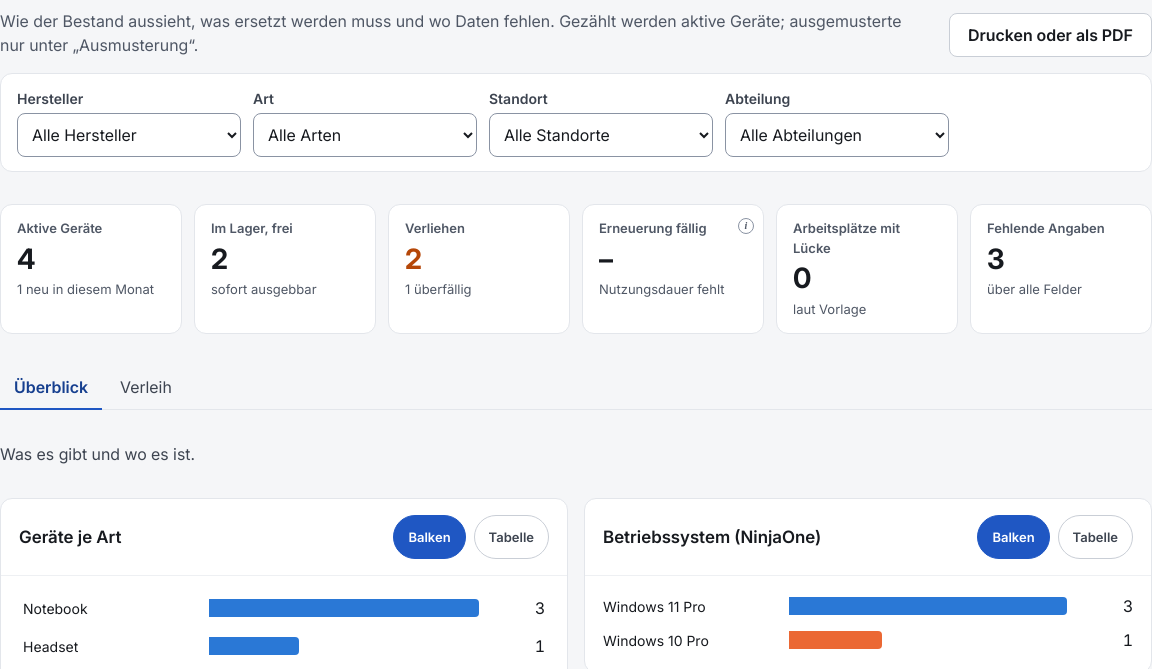
Scenario: Statistik: Seite › zeigt Kennzahlen, wechselt Bereiche und Darstellung
Check: the heading "Geräte je Art" is shown, box left=19, top=525, right=122, bottom=550
Check: the button "Aktive Geräte 4 1 neu in diesem Monat" is shown, box left=0, top=204, right=182, bottom=334
Kennzahl öffnet den Bereich
Click the button "Verliehen 2 1 überfällig" at (479, 269), box left=388, top=204, right=570, bottom=334
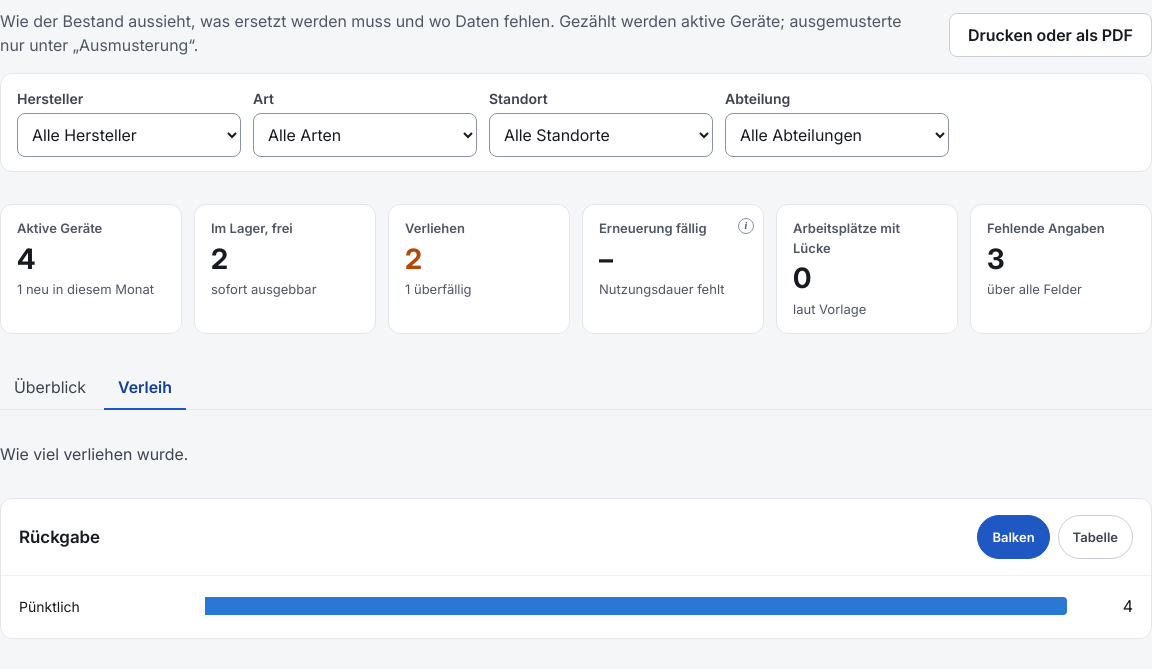
Check: the heading "Rückgabe" is shown, box left=19, top=525, right=100, bottom=550
Click the button "Überblick" at (50, 388), box left=0, top=366, right=100, bottom=410
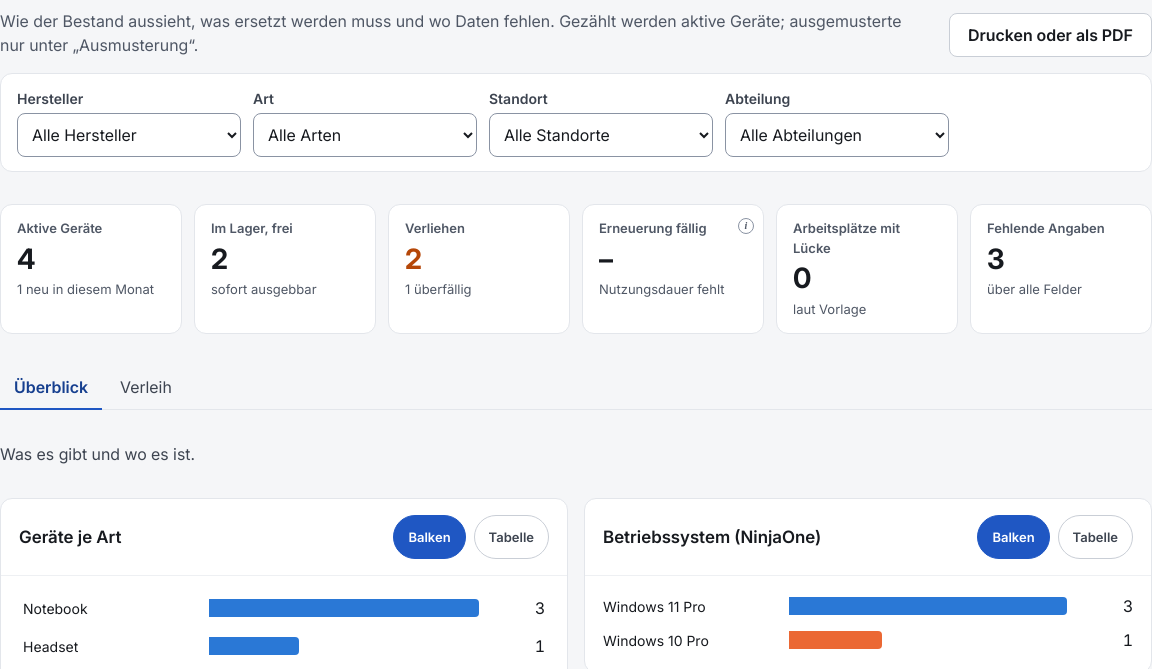
Tabelle statt Balken, mit Hinweis „beachten“
Click the button "Tabelle" in the row of "Betriebssystem (NinjaOne)" at (1095, 538), box left=1058, top=516, right=1133, bottom=560
(page scrolled)
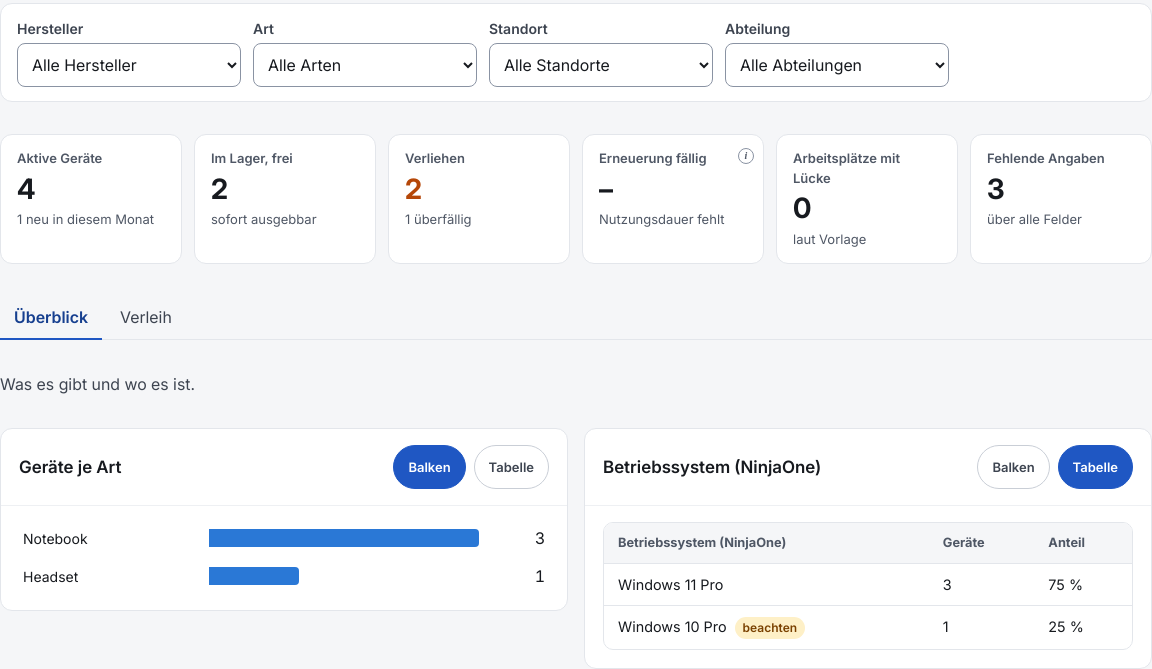
Check: the text "beachten" is shown, box left=735, top=617, right=805, bottom=639
Check: the cell "75 %" is shown, box left=1034, top=563, right=1132, bottom=606
